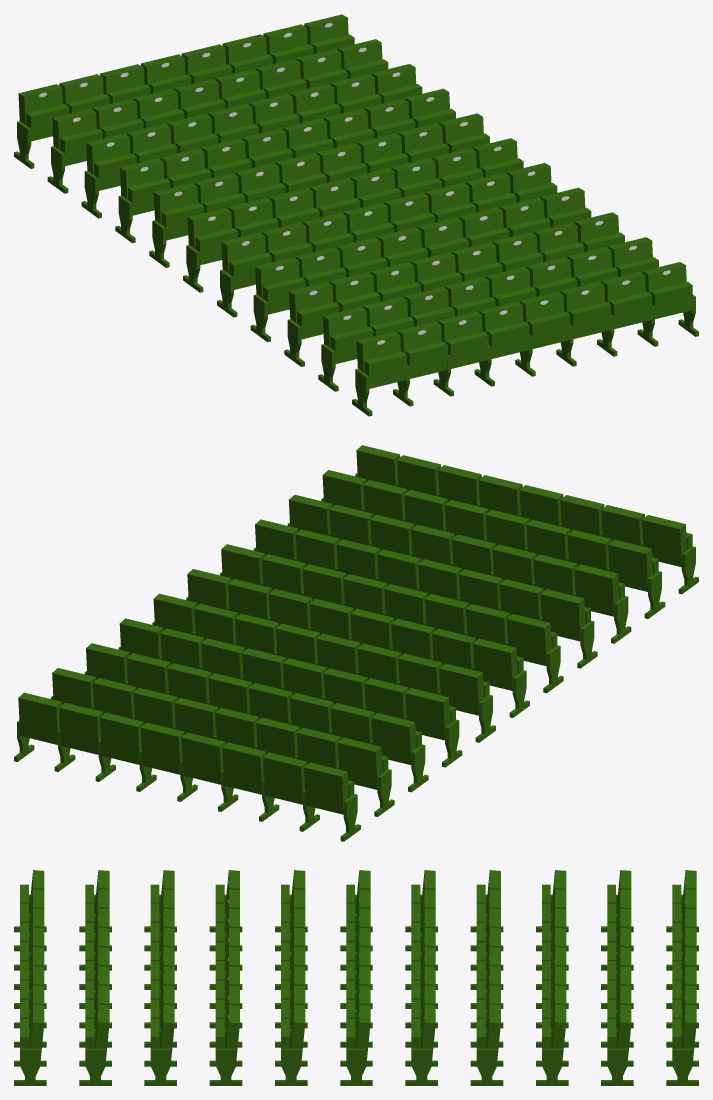
The model's file is Seats_Sections_3D3B.FBX.
3 renders of one model, top to bottom at view 1: azimuth 30°, elevation 25°; view 2: azimuth 150°, elevation 25°; view 3: azimuth 270°, elevation 25°, orthographic. The views are drawn at different scales.
Visible parts, largest first — view 1: Box011; view 2: Box011; view 3: Box011.
Boxes of the visible parts, x1,y1,x2,y2 form: Box011: [14, 14, 698, 416]; Box011: [14, 445, 698, 841]; Box011: [14, 870, 698, 1085].
Bounding box in the file's own units: 3.32 × 0.6188 × 6.18.
